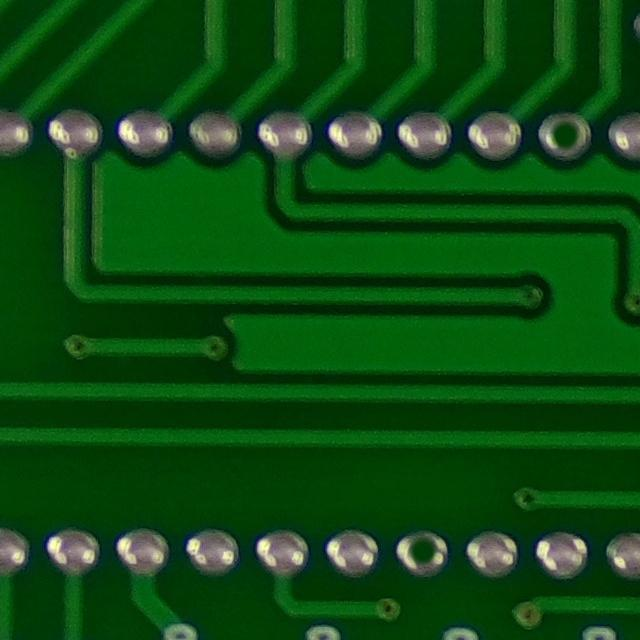missing_hole: (530, 103, 597, 173), (394, 519, 451, 582)
